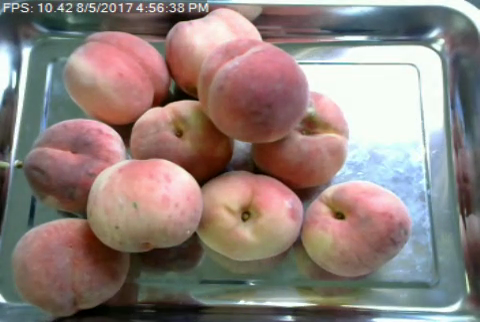Peach: (14, 216, 125, 317), (200, 36, 308, 139), (90, 155, 200, 252), (300, 181, 411, 276), (63, 29, 168, 127), (194, 170, 305, 260), (163, 6, 264, 97), (24, 119, 125, 209), (252, 91, 349, 184), (130, 98, 232, 178)
